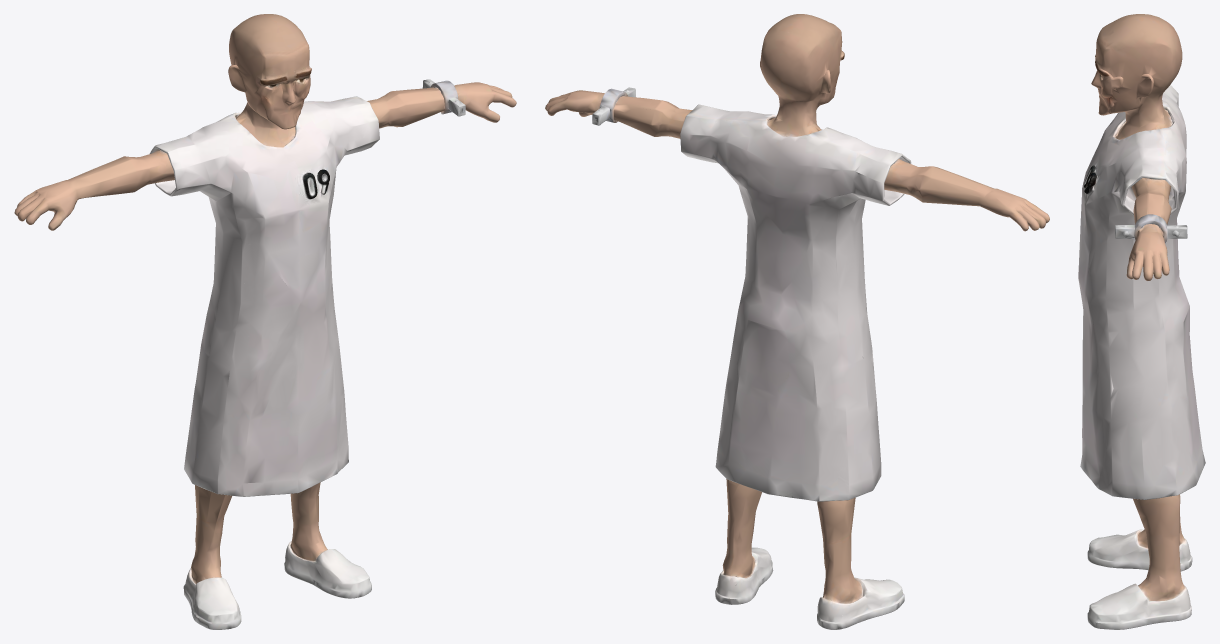
Rendered from char_s9_m_subject_idle.glb.
3 views of the same model, side by side, from view 1: azimuth 30°, elevation 25°; view 2: azimuth 150°, elevation 25°; view 3: azimuth 270°, elevation 25° (orthographic).
Visible parts, largest first — view 1: tripo_node_5752a5b5-848e-4040-8f27-81ace4cbf09a; view 2: tripo_node_5752a5b5-848e-4040-8f27-81ace4cbf09a; view 3: tripo_node_5752a5b5-848e-4040-8f27-81ace4cbf09a.
Part boxes in pixels (<box>): tripo_node_5752a5b5-848e-4040-8f27-81ace4cbf09a: <box>14,14,516,629</box>; tripo_node_5752a5b5-848e-4040-8f27-81ace4cbf09a: <box>545,14,1049,629</box>; tripo_node_5752a5b5-848e-4040-8f27-81ace4cbf09a: <box>1078,14,1205,629</box>.
Bounding box in the file's own units: 1.6 × 1.78 × 0.3596.
Materials: 1 (1 with a texture image).
